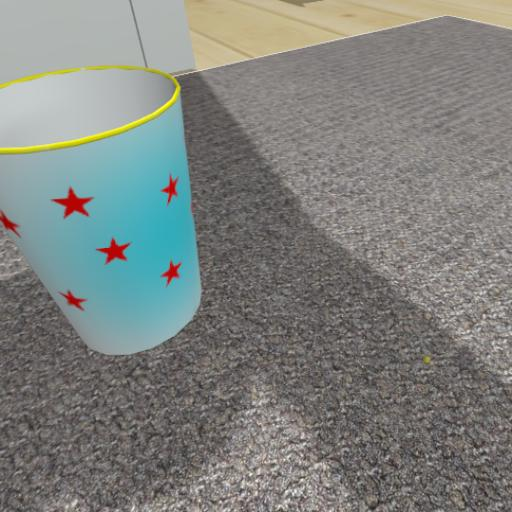Trash: (6, 52, 245, 379)
